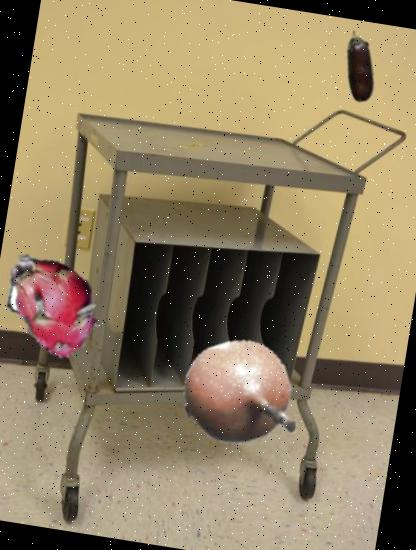Eggplant: (317, 24, 403, 110)
Granadilla: (176, 332, 302, 458)
Pitahaya: (0, 235, 118, 368)
